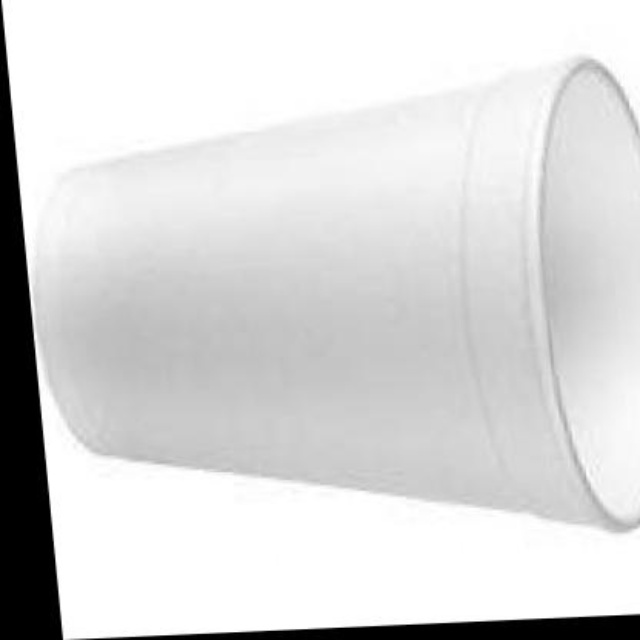trash: (34, 58, 638, 525)
